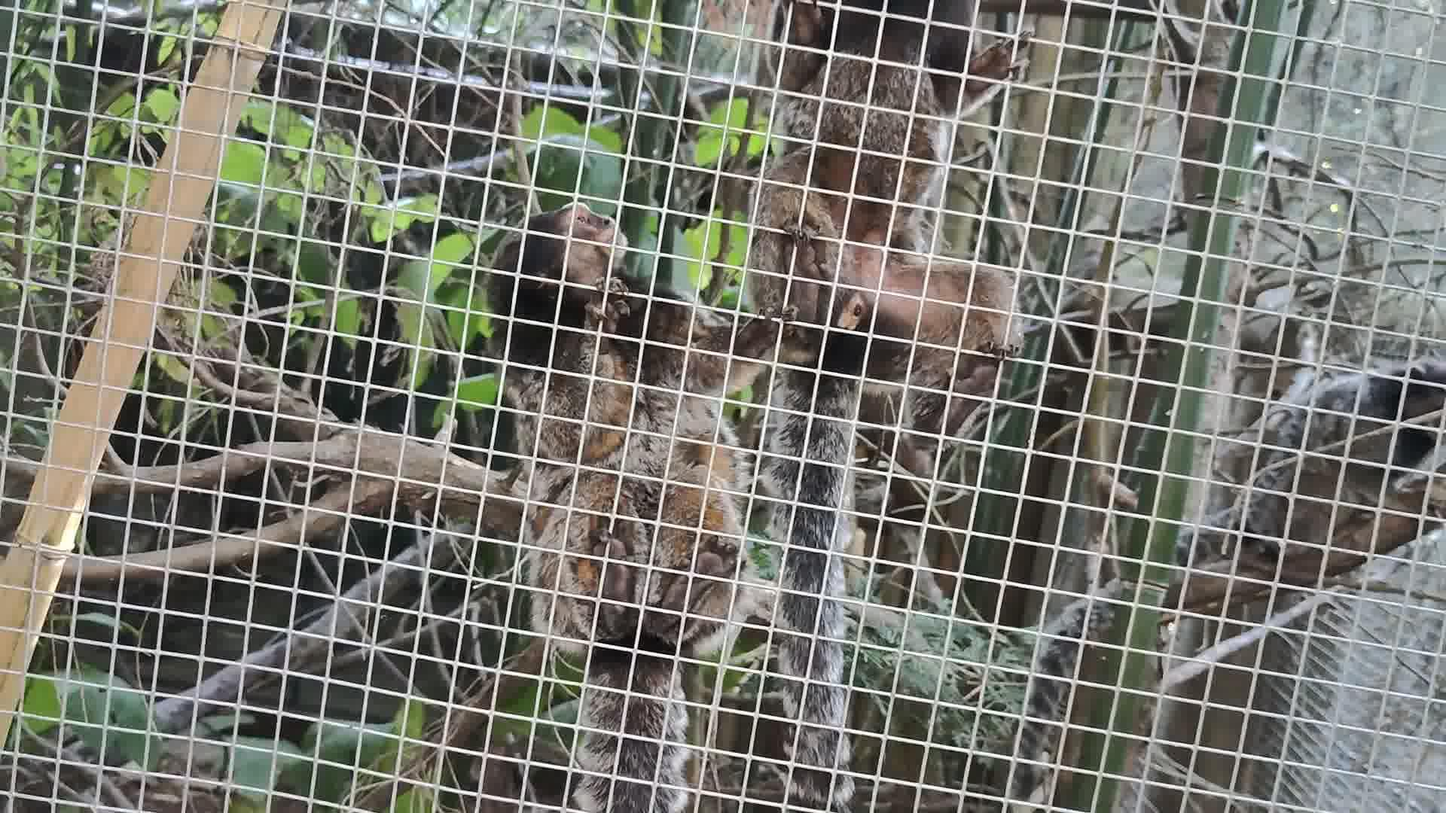boar: (749, 0, 1031, 807), (485, 201, 798, 813)
